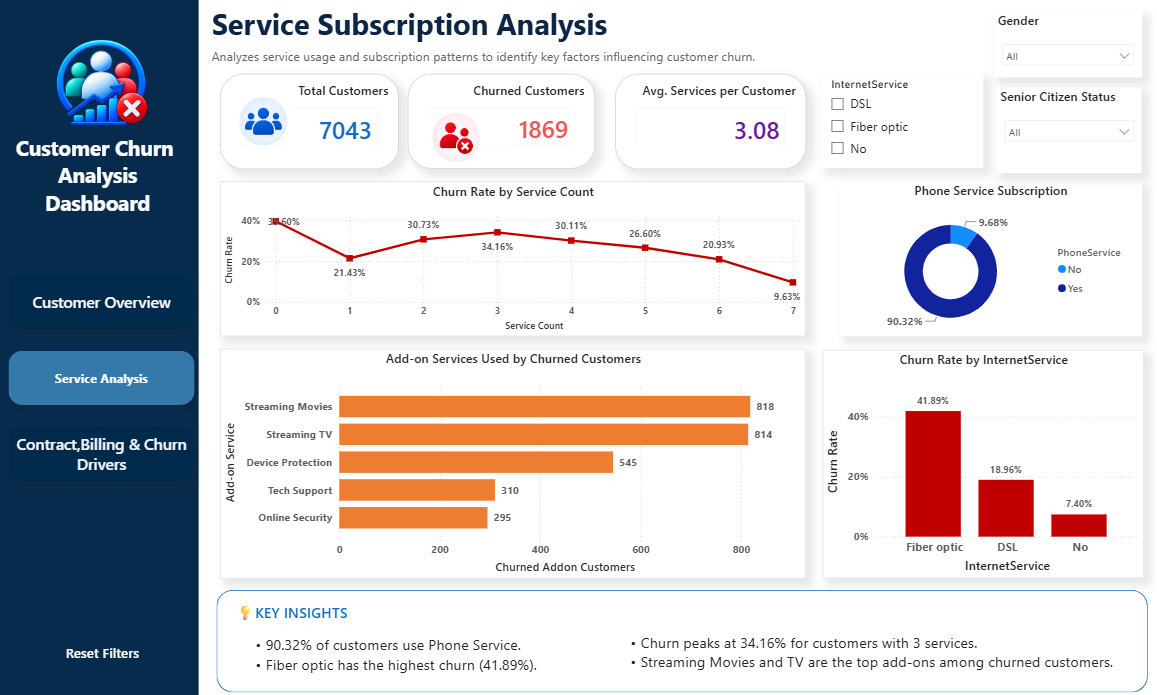

Layout of this report page (visuals, bound fields, positions):
{"tool":"powerbi","page":{"name":"Service Analysis","canvas":[1500,900],"ordinal":1},"visuals":[{"type":"donutChart","title":"Phone Service Subscription","fields":{"Y":["CountNonNull(Telco-Customer-Churn.customerID)"],"Series":["Telco-Customer-Churn.PhoneService"]},"box":[1085.7,233.9,389.3,200],"z":0},{"type":"columnChart","fields":{"Category":["Telco-Customer-Churn.InternetService"],"Y":["Telco-Customer-Churn.Churn Rate"]},"box":[1062.5,451.8,414.3,294.6],"z":1000},{"type":"shape","box":[0,0,257.8,900],"z":2000},{"type":"textbox","box":[269.6,0,1000,64.3],"z":3000},{"type":"lineChart","fields":{"Category":["Telco-Customer-Churn.Service Count"],"Y":["Telco-Customer-Churn.Churn Rate"]},"box":[285.7,233.9,755.4,200],"z":4000},{"type":"slicer","title":"Gender","fields":{"Values":["Telco-Customer-Churn.gender"]},"box":[1283.9,14.3,191.1,85.7],"z":5000},{"type":"slicer","title":"Senior Citizen Status","fields":{"Values":["Telco-Customer-Churn.SeniorCitizen Status"]},"box":[1287.5,112.5,187.5,110.7],"z":6000},{"type":"slicer","fields":{"Values":["Telco-Customer-Churn.InternetService"]},"box":[1060.7,94.6,208.9,121.4],"z":7000},{"type":"textbox","box":[269.6,57.1,1000,35.7],"z":8000},{"type":"image","box":[62.1,37.9,140,140],"z":9000},{"type":"textbox","box":[0,167.2,254.3,150],"z":10000},{"type":"pageNavigator","box":[3.4,344.8,258.6,284.5],"z":11000},{"type":"actionButton","box":[20.7,806.9,225,70],"z":12000},{"type":"cardVisual","title":"Total Customers","fields":{"Data":["Telco-Customer-Churn.Total Customers"]},"box":[285.7,94.6,230.4,123.2],"z":13000},{"type":"image","box":[300,125,82.8,63.8],"z":14000},{"type":"cardVisual","title":"Churned Customers","fields":{"Data":["Telco-Customer-Churn.Churned Customers"]},"box":[526.8,94.6,241.4,122.4],"z":15000},{"type":"image","box":[544.6,135.7,82.8,63.8],"z":16000},{"type":"clusteredBarChart","title":"Add-on Services Used by Churned Customers","fields":{"Y":["AddonServices.Churned Addon Customers"],"Category":["AddonServices.Add-on Service"]},"box":[285.7,450,755.4,296.4],"z":17000},{"type":"cardVisual","title":"Avg. Services per Customer","fields":{"Data":["Telco-Customer-Churn.Avg Services Per Customer"]},"box":[794.6,94.6,246.4,123.2],"z":18000},{"type":"shape","box":[280.4,760.7,1201.8,132.1],"z":19000},{"type":"textbox","box":[300,773.2,160.7,37.5],"z":20000},{"type":"textbox","box":[310.7,814.3,439.3,62.5],"z":21000},{"type":"textbox","box":[794.6,810.7,662.5,66.1],"z":22000},{"type":"image","box":[794.6,125,151.8,76.8],"z":22001}]}

Visuals, with their boxes in screenshot pixels (x1, y1, x2, y2), scaled from the page's 1500x900 canvas onto the 1157x695 screenshot:
"Phone Service Subscription" donutChart: <box>837,181,1138,335</box>
columnChart - Telco-Customer-Churn.InternetService x Telco-Customer-Churn.Churn Rate: <box>820,349,1139,576</box>
shape: <box>0,0,199,694</box>
textbox: <box>208,0,979,50</box>
lineChart - Telco-Customer-Churn.Service Count x Telco-Customer-Churn.Churn Rate: <box>220,181,803,335</box>
"Gender" slicer: <box>990,11,1138,77</box>
"Senior Citizen Status" slicer: <box>993,87,1138,172</box>
slicer - Telco-Customer-Churn.InternetService: <box>818,73,979,167</box>
textbox: <box>208,44,979,72</box>
image: <box>48,29,156,137</box>
textbox: <box>0,129,196,245</box>
pageNavigator: <box>3,266,202,486</box>
actionButton: <box>16,623,190,677</box>
"Total Customers" cardVisual: <box>220,73,398,168</box>
image: <box>231,97,295,146</box>
"Churned Customers" cardVisual: <box>406,73,593,168</box>
image: <box>420,105,484,154</box>
"Add-on Services Used by Churned Customers" clusteredBarChart: <box>220,348,803,576</box>
"Avg. Services per Customer" cardVisual: <box>613,73,803,168</box>
shape: <box>216,587,1143,689</box>
textbox: <box>231,597,355,626</box>
textbox: <box>240,629,578,677</box>
textbox: <box>613,626,1124,677</box>
image: <box>613,97,730,156</box>
